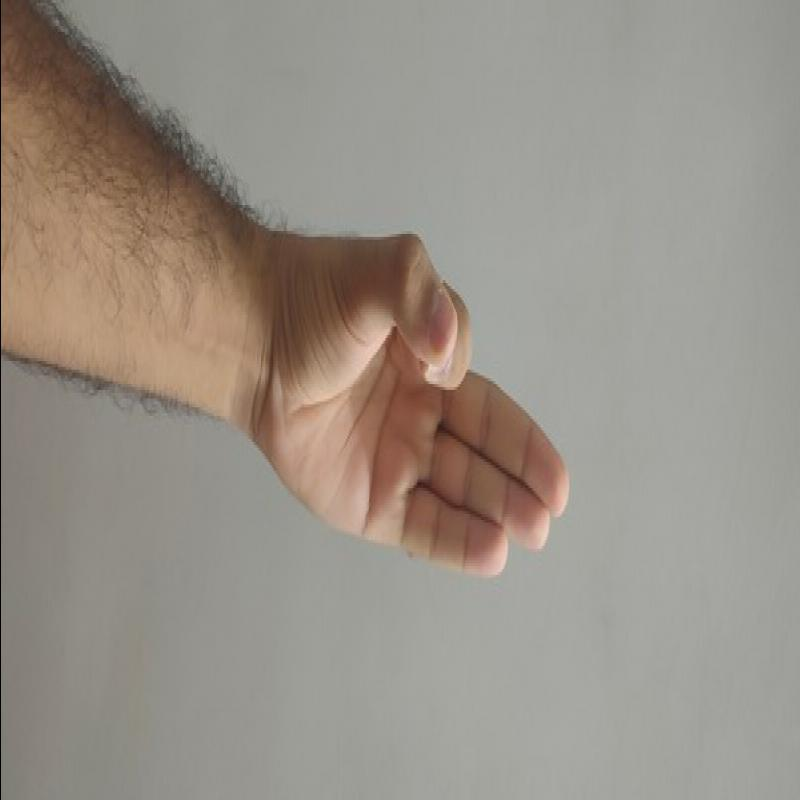Mudraakhyam: (257, 221, 594, 583)
